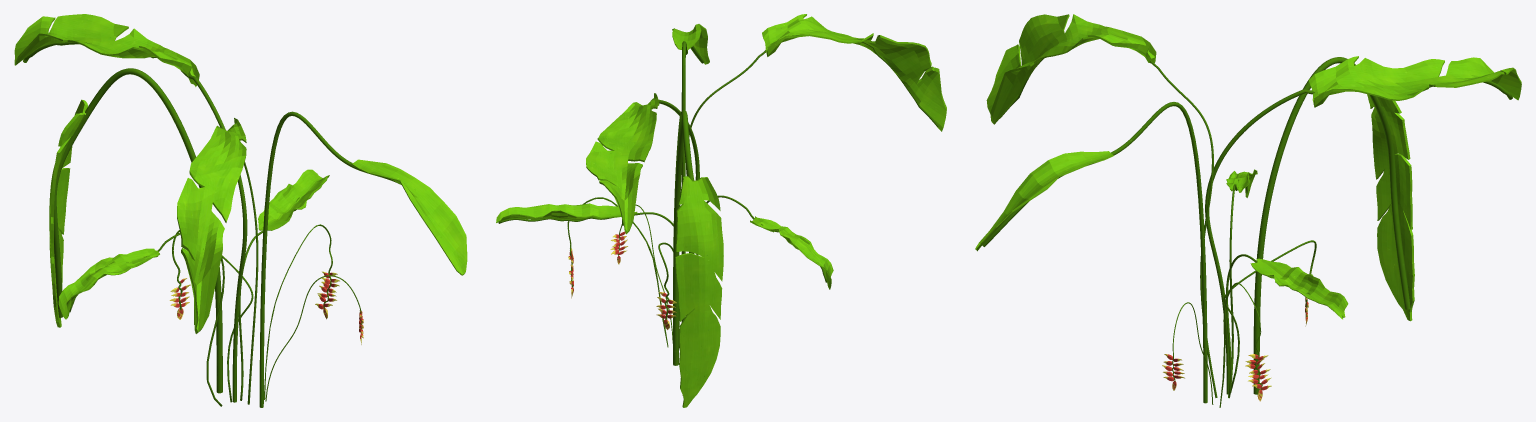
Rendered from heliconia_rostrata.glb.
3 renders of one model, left to right at view 1: azimuth 30°, elevation 25°; view 2: azimuth 150°, elevation 25°; view 3: azimuth 270°, elevation 25°, orthographic. The views are drawn at different scales.
Visible parts, largest first — view 1: defaultMaterial (×3); view 2: defaultMaterial (×3); view 3: defaultMaterial (×3).
Boxes of the visible parts, x1,y1,x2,y2 form: defaultMaterial (×3): [14, 14, 467, 407]; defaultMaterial (×3): [496, 14, 946, 407]; defaultMaterial (×3): [975, 14, 1521, 407].
Bounding box in the file's own units: 337 × 338 × 502.
3 materials, 3 textured.
